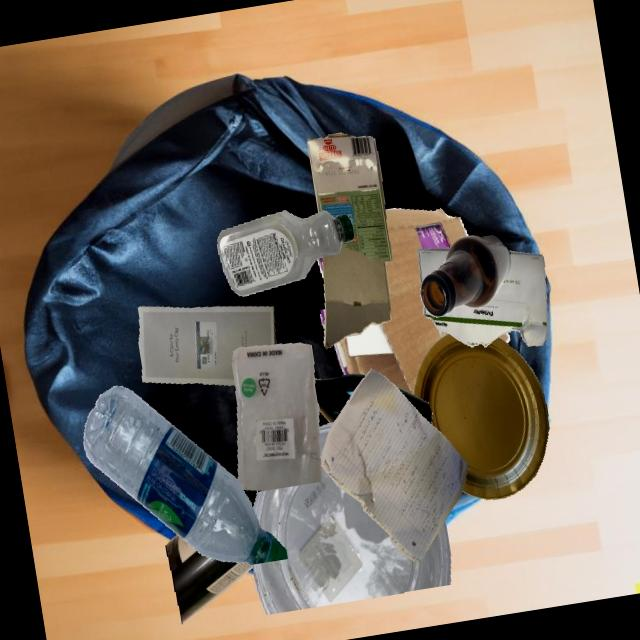cardboard: (308, 133, 392, 349), (385, 208, 468, 312), (334, 326, 449, 395)
glass: (166, 534, 253, 624), (421, 235, 511, 318), (314, 374, 366, 423), (396, 387, 432, 424)
paper: (321, 369, 468, 564), (413, 334, 549, 499), (423, 251, 548, 347), (138, 306, 276, 385)
plastic: (253, 422, 451, 615), (83, 386, 287, 565), (232, 343, 322, 491), (217, 210, 355, 296)
